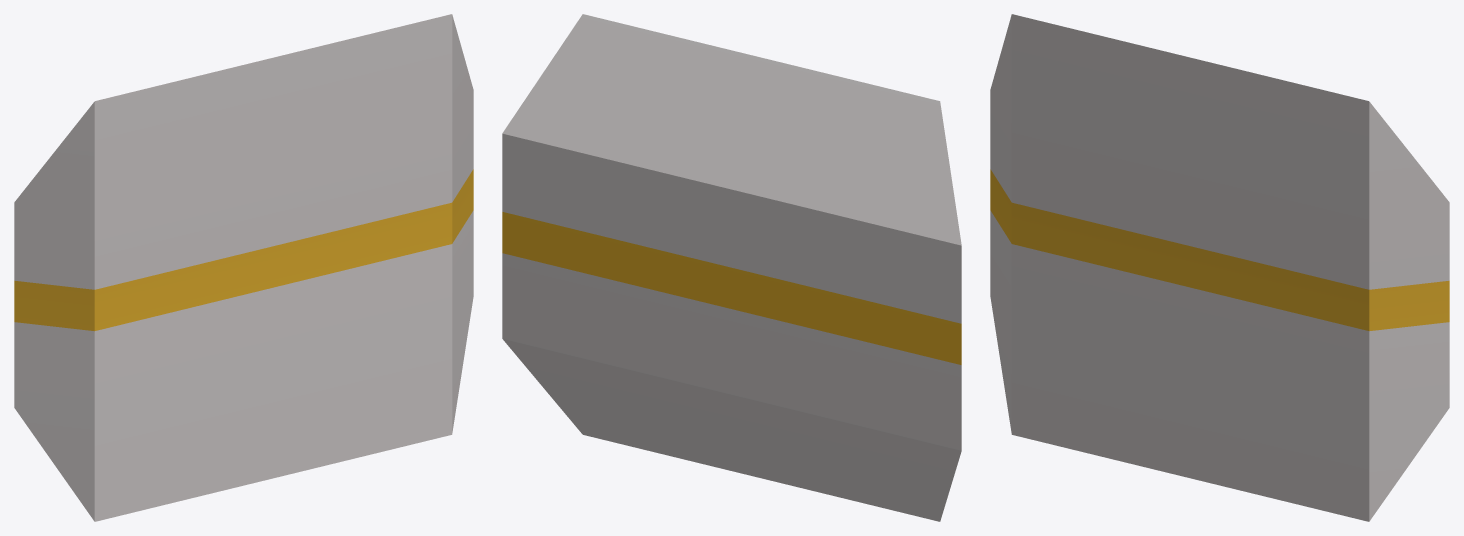
The model's file is WallFill.fbx.
3 views of the same model, side by side, from view 1: azimuth 30°, elevation 25°; view 2: azimuth 150°, elevation 25°; view 3: azimuth 330°, elevation 25° (orthographic).
Visible parts, largest first — view 1: Wall_Fill; view 2: Wall_Fill; view 3: Wall_Fill.
Boxes of the visible parts, <box> form: Wall_Fill: <box>14,14,473,521</box>; Wall_Fill: <box>502,14,961,521</box>; Wall_Fill: <box>990,14,1449,521</box>.
Bounding box in the file's own units: 900 × 788 × 100.
